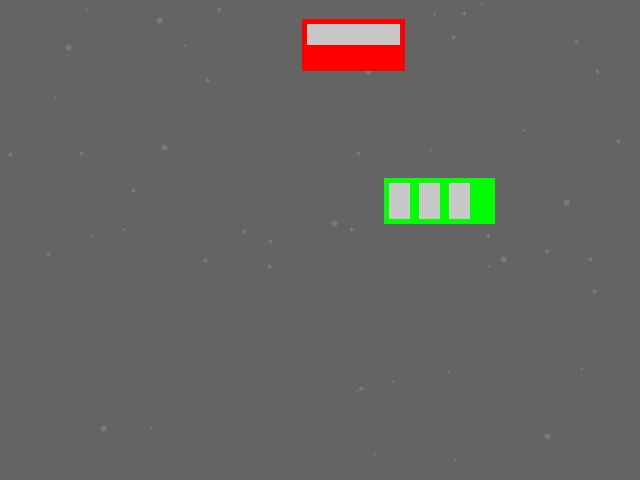bus: (384, 178, 494, 223)
car: (302, 19, 404, 70)
